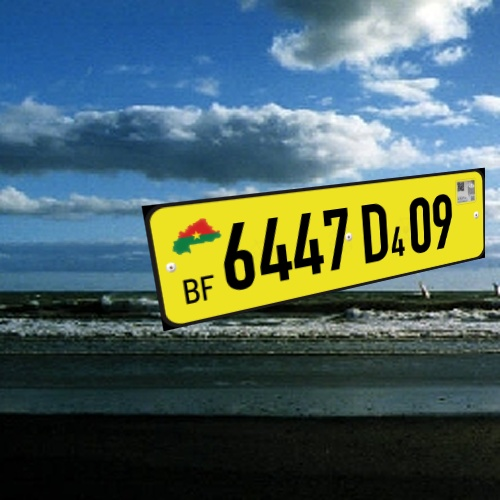plate: (124, 154, 495, 342)
